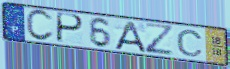6: (88, 17, 113, 49)
A: (113, 21, 148, 54)
C: (25, 9, 56, 43), (175, 29, 205, 58)
P: (55, 11, 86, 45)
Z: (143, 21, 176, 57)
